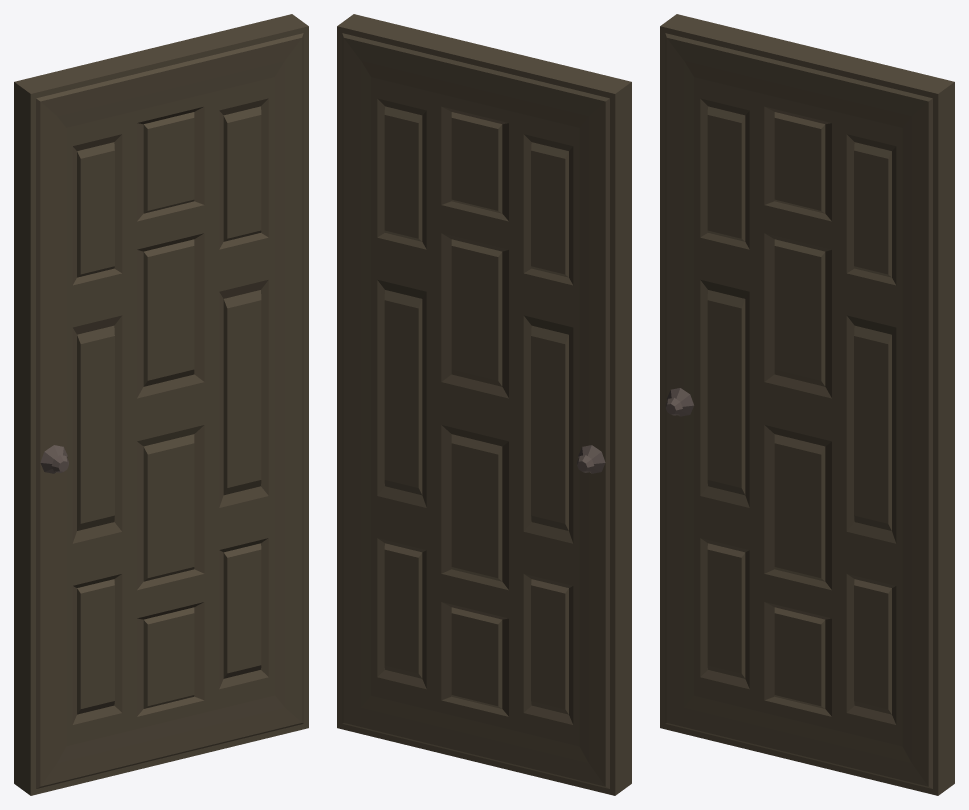
The picture shows the model from 3 angles, left to right: view 1: azimuth 30°, elevation 25°; view 2: azimuth 150°, elevation 25°; view 3: azimuth 330°, elevation 25°; orthographic projection.
Visible parts, largest first — view 1: Door_5_Cube.050; view 2: Door_5_Cube.050; view 3: Door_5_Cube.050.
Boxes of the visible parts, left/top/right/bottom form: Door_5_Cube.050: left=14, top=14, right=308, bottom=795; Door_5_Cube.050: left=337, top=14, right=631, bottom=795; Door_5_Cube.050: left=660, top=14, right=954, bottom=795.
Size of the model in its own units: 1.74 by 4.2 by 0.4211.
